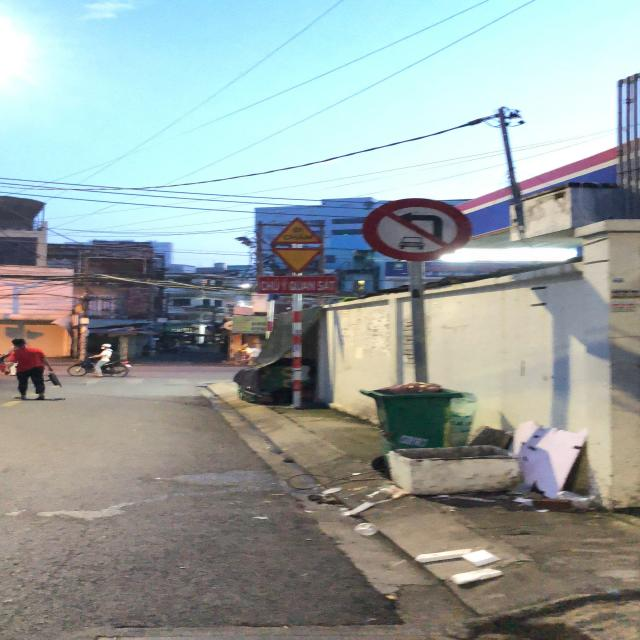Bien bao cam xe o to re trai: (362, 188, 483, 264)
Bien bao di cham: (269, 214, 326, 245)
Bien bao giao nhau voi duong uu tien: (270, 245, 328, 275)
